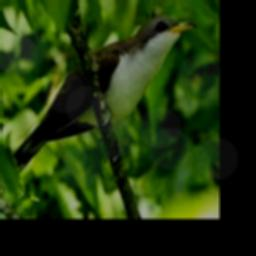Cuckoo: (0, 16, 196, 194)
